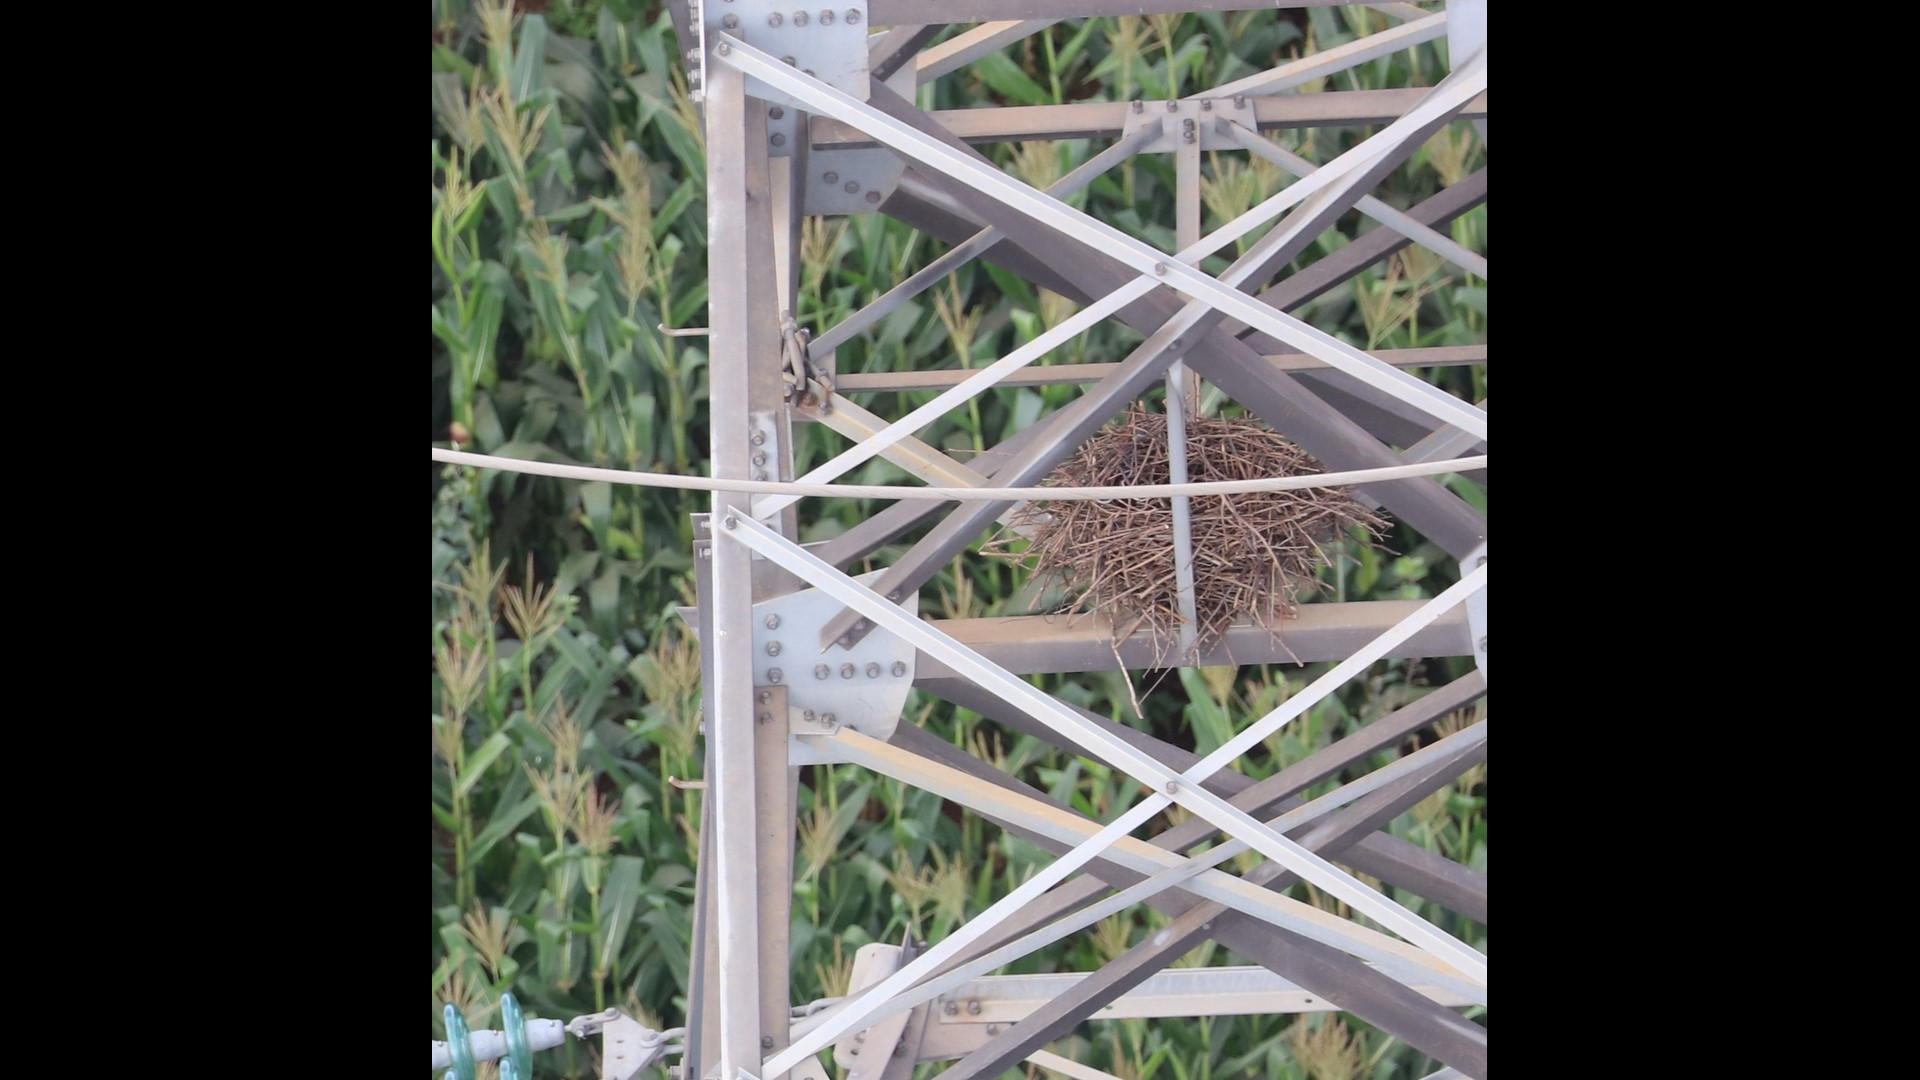niaowo: (1021, 378, 1385, 659)
